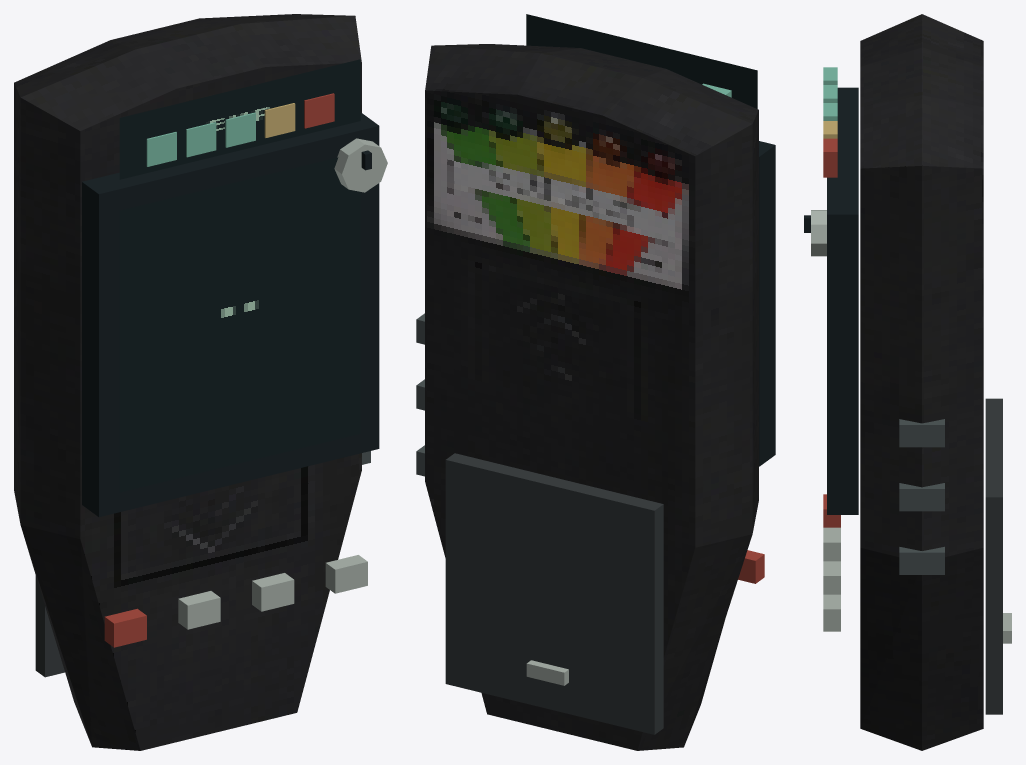
File: blender_emf_reader_3.glb
The picture shows the model from 3 angles, left to right: view 1: azimuth 30°, elevation 25°; view 2: azimuth 150°, elevation 25°; view 3: azimuth 270°, elevation 25°; orthographic projection. The views are drawn at different scales.
Visible parts, largest first — view 1: blender_emf_reader_3; view 2: blender_emf_reader_3; view 3: blender_emf_reader_3.
Boxes of the visible parts, <box> form: blender_emf_reader_3: <box>14,14,387,750</box>; blender_emf_reader_3: <box>416,14,775,750</box>; blender_emf_reader_3: <box>804,14,1011,750</box>.
Bounding box in the file's own units: 0.103 × 0.2 × 0.059.
1 material, 1 textured.
